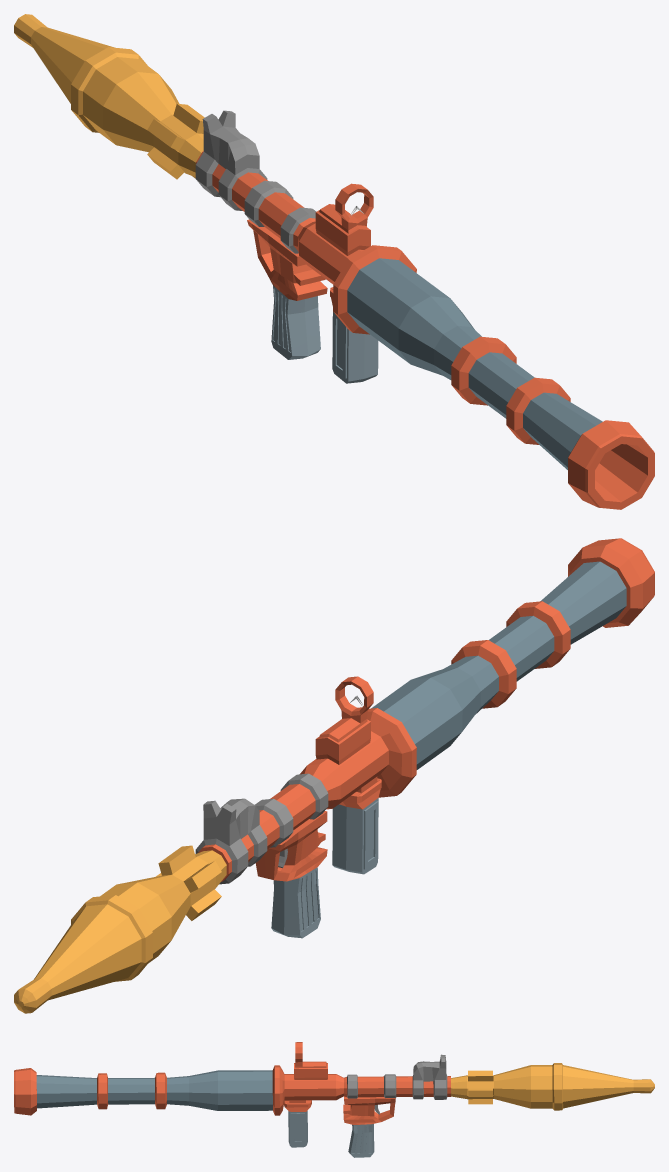
Rendered from Bazooka_1.fbx.
3 renders of one model, top to bottom at view 1: azimuth 30°, elevation 25°; view 2: azimuth 150°, elevation 25°; view 3: azimuth 270°, elevation 25°, orthographic. The views are drawn at different scales.
Parts seen in each view (by area): view 1: Bazooka1; view 2: Bazooka1; view 3: Bazooka1.
Part boxes in pixels (bbox=[...]): Bazooka1: bbox=[14, 14, 654, 509]; Bazooka1: bbox=[14, 538, 654, 1013]; Bazooka1: bbox=[14, 1042, 654, 1157].
Bounding box in the file's own units: 87.98 × 224 × 1160.
